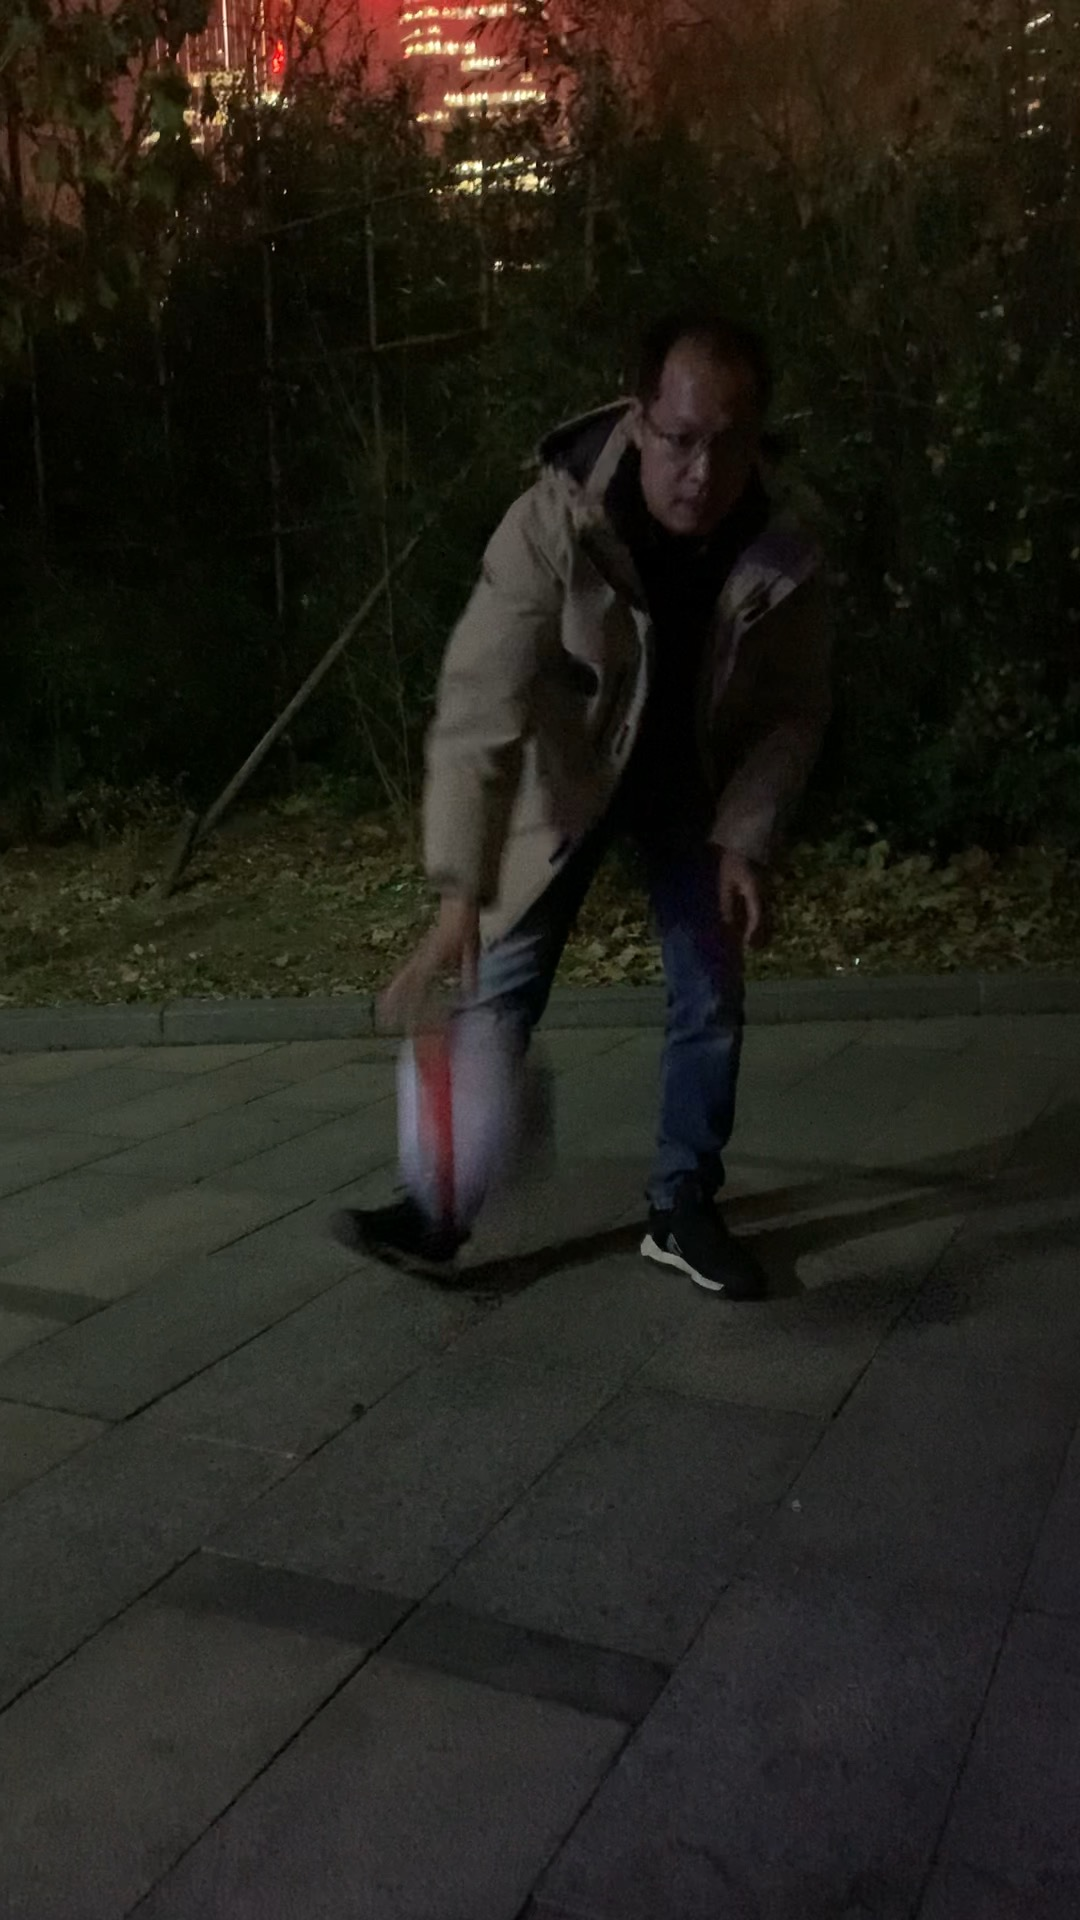ball: (382, 1011, 575, 1216)
